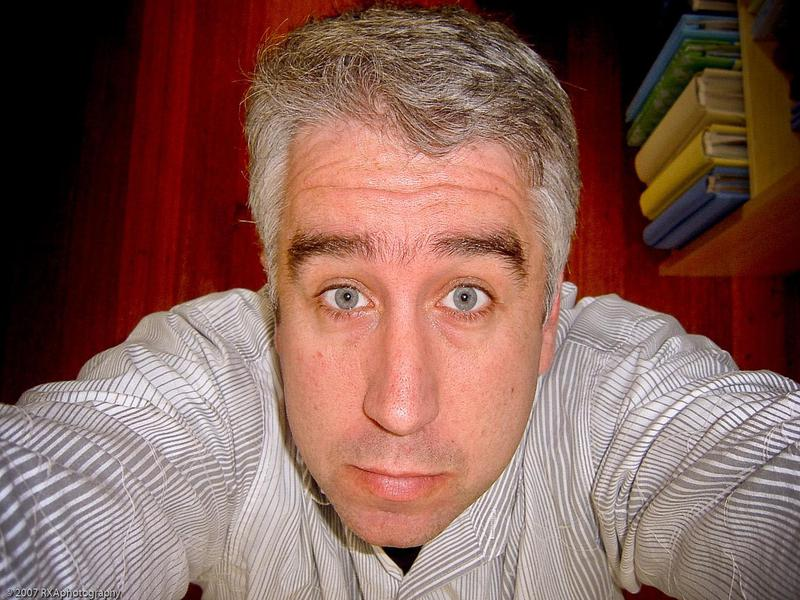person: (6, 9, 797, 600)
